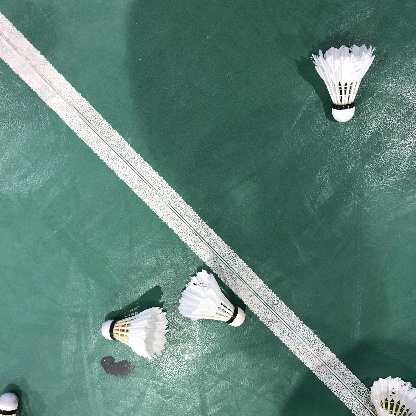ball_single: (312, 44, 375, 122), (178, 269, 245, 327), (102, 307, 169, 360), (370, 376, 416, 416), (0, 392, 18, 416)
